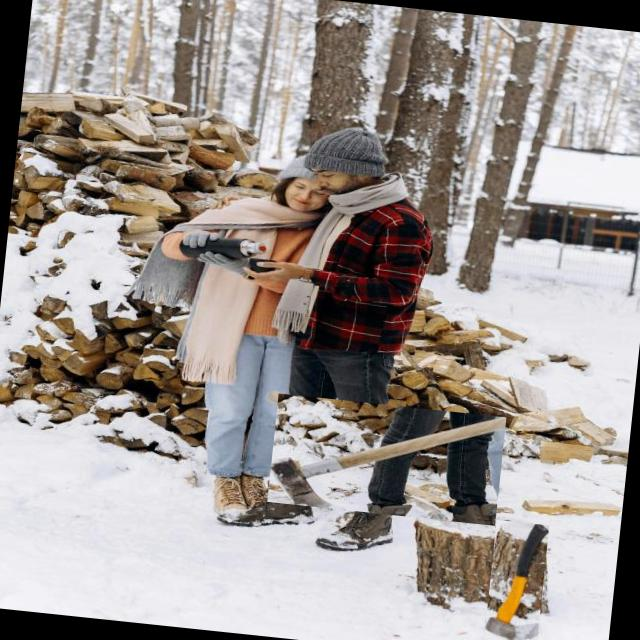Axe: (270, 417, 506, 508), (485, 524, 548, 640)
